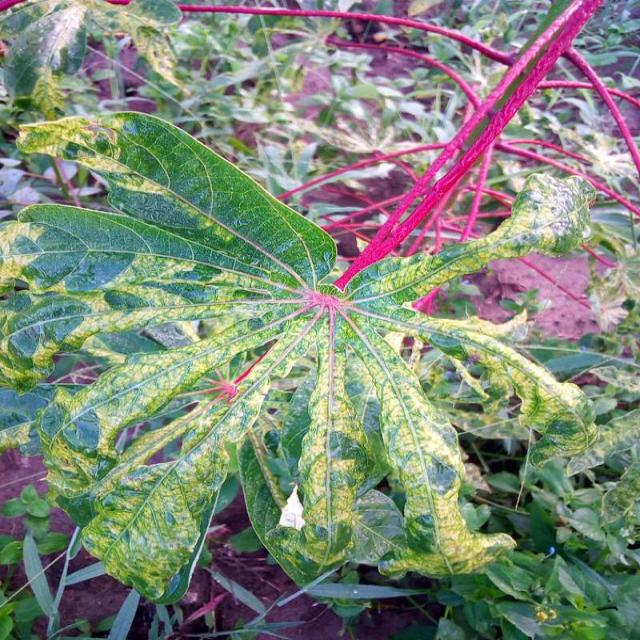cassava leaf: (1, 106, 601, 604)
